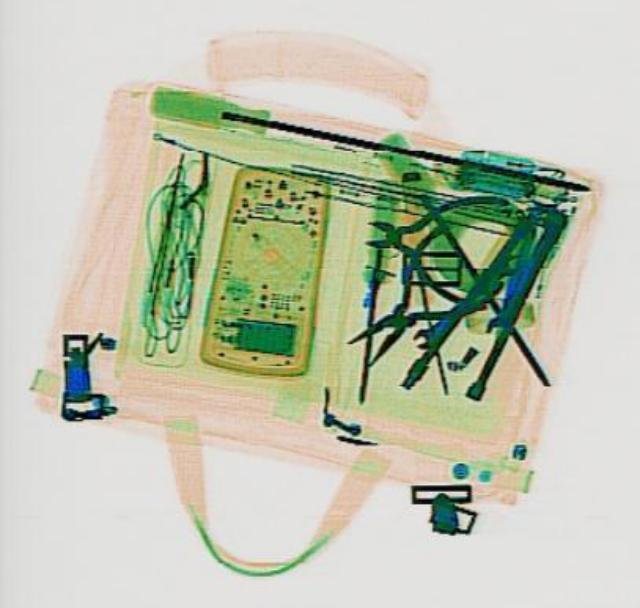Pliers: (397, 191, 588, 415), (318, 221, 508, 383), (352, 176, 508, 304)
